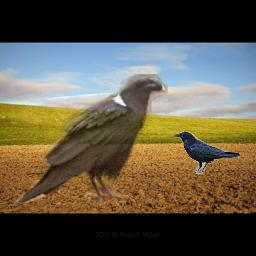Crow: (13, 74, 168, 211), (172, 131, 241, 175)
